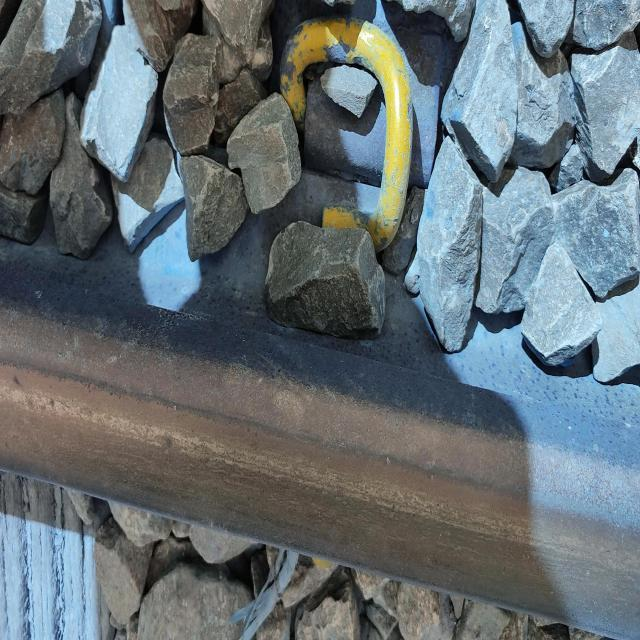Good Fasteners: (264, 0, 462, 252)
